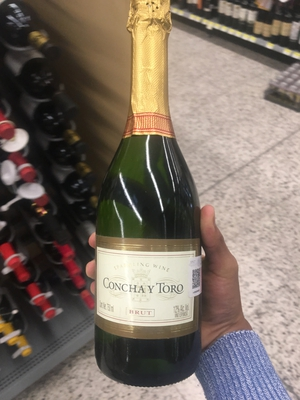brut: (84, 11, 220, 376)
